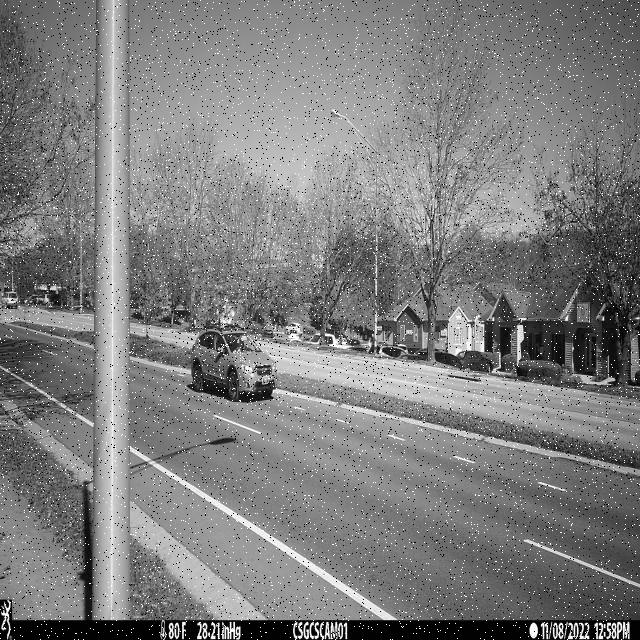SUV: (191, 324, 277, 402)
